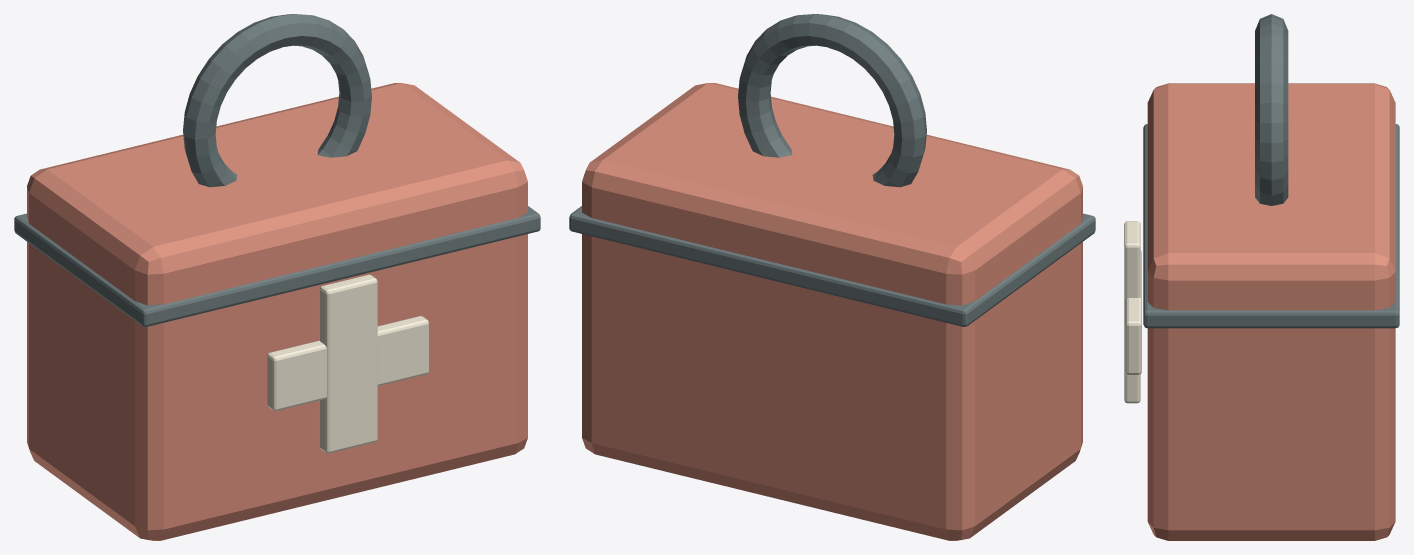
The picture shows the model from 3 angles, left to right: view 1: azimuth 30°, elevation 25°; view 2: azimuth 150°, elevation 25°; view 3: azimuth 270°, elevation 25°; orthographic projection. The views are drawn at different scales.
Visible parts, largest first — view 1: medical case, carry handle, lid seam, medical cross vertical, medical cross horizontal; view 2: medical case, carry handle, lid seam; view 3: medical case, lid seam, carry handle, medical cross vertical, medical cross horizontal.
Boxes of the visible parts, x1,y1,x2,y2 form: medical case: (27,83,527,540); carry handle: (183,14,371,187); lid seam: (14,206,540,326); medical cross vertical: (319,274,377,453); medical cross horizontal: (267,316,428,410); medical case: (582,83,1082,540); carry handle: (738,14,926,187); lid seam: (569,206,1095,326); medical case: (1147,83,1395,540); lid seam: (1143,124,1399,328); carry handle: (1255,14,1288,205); medical cross vertical: (1124,221,1140,403); medical cross horizontal: (1125,250,1141,374).
Size of the model in its own units: 0.326 by 0.346 by 0.2.
